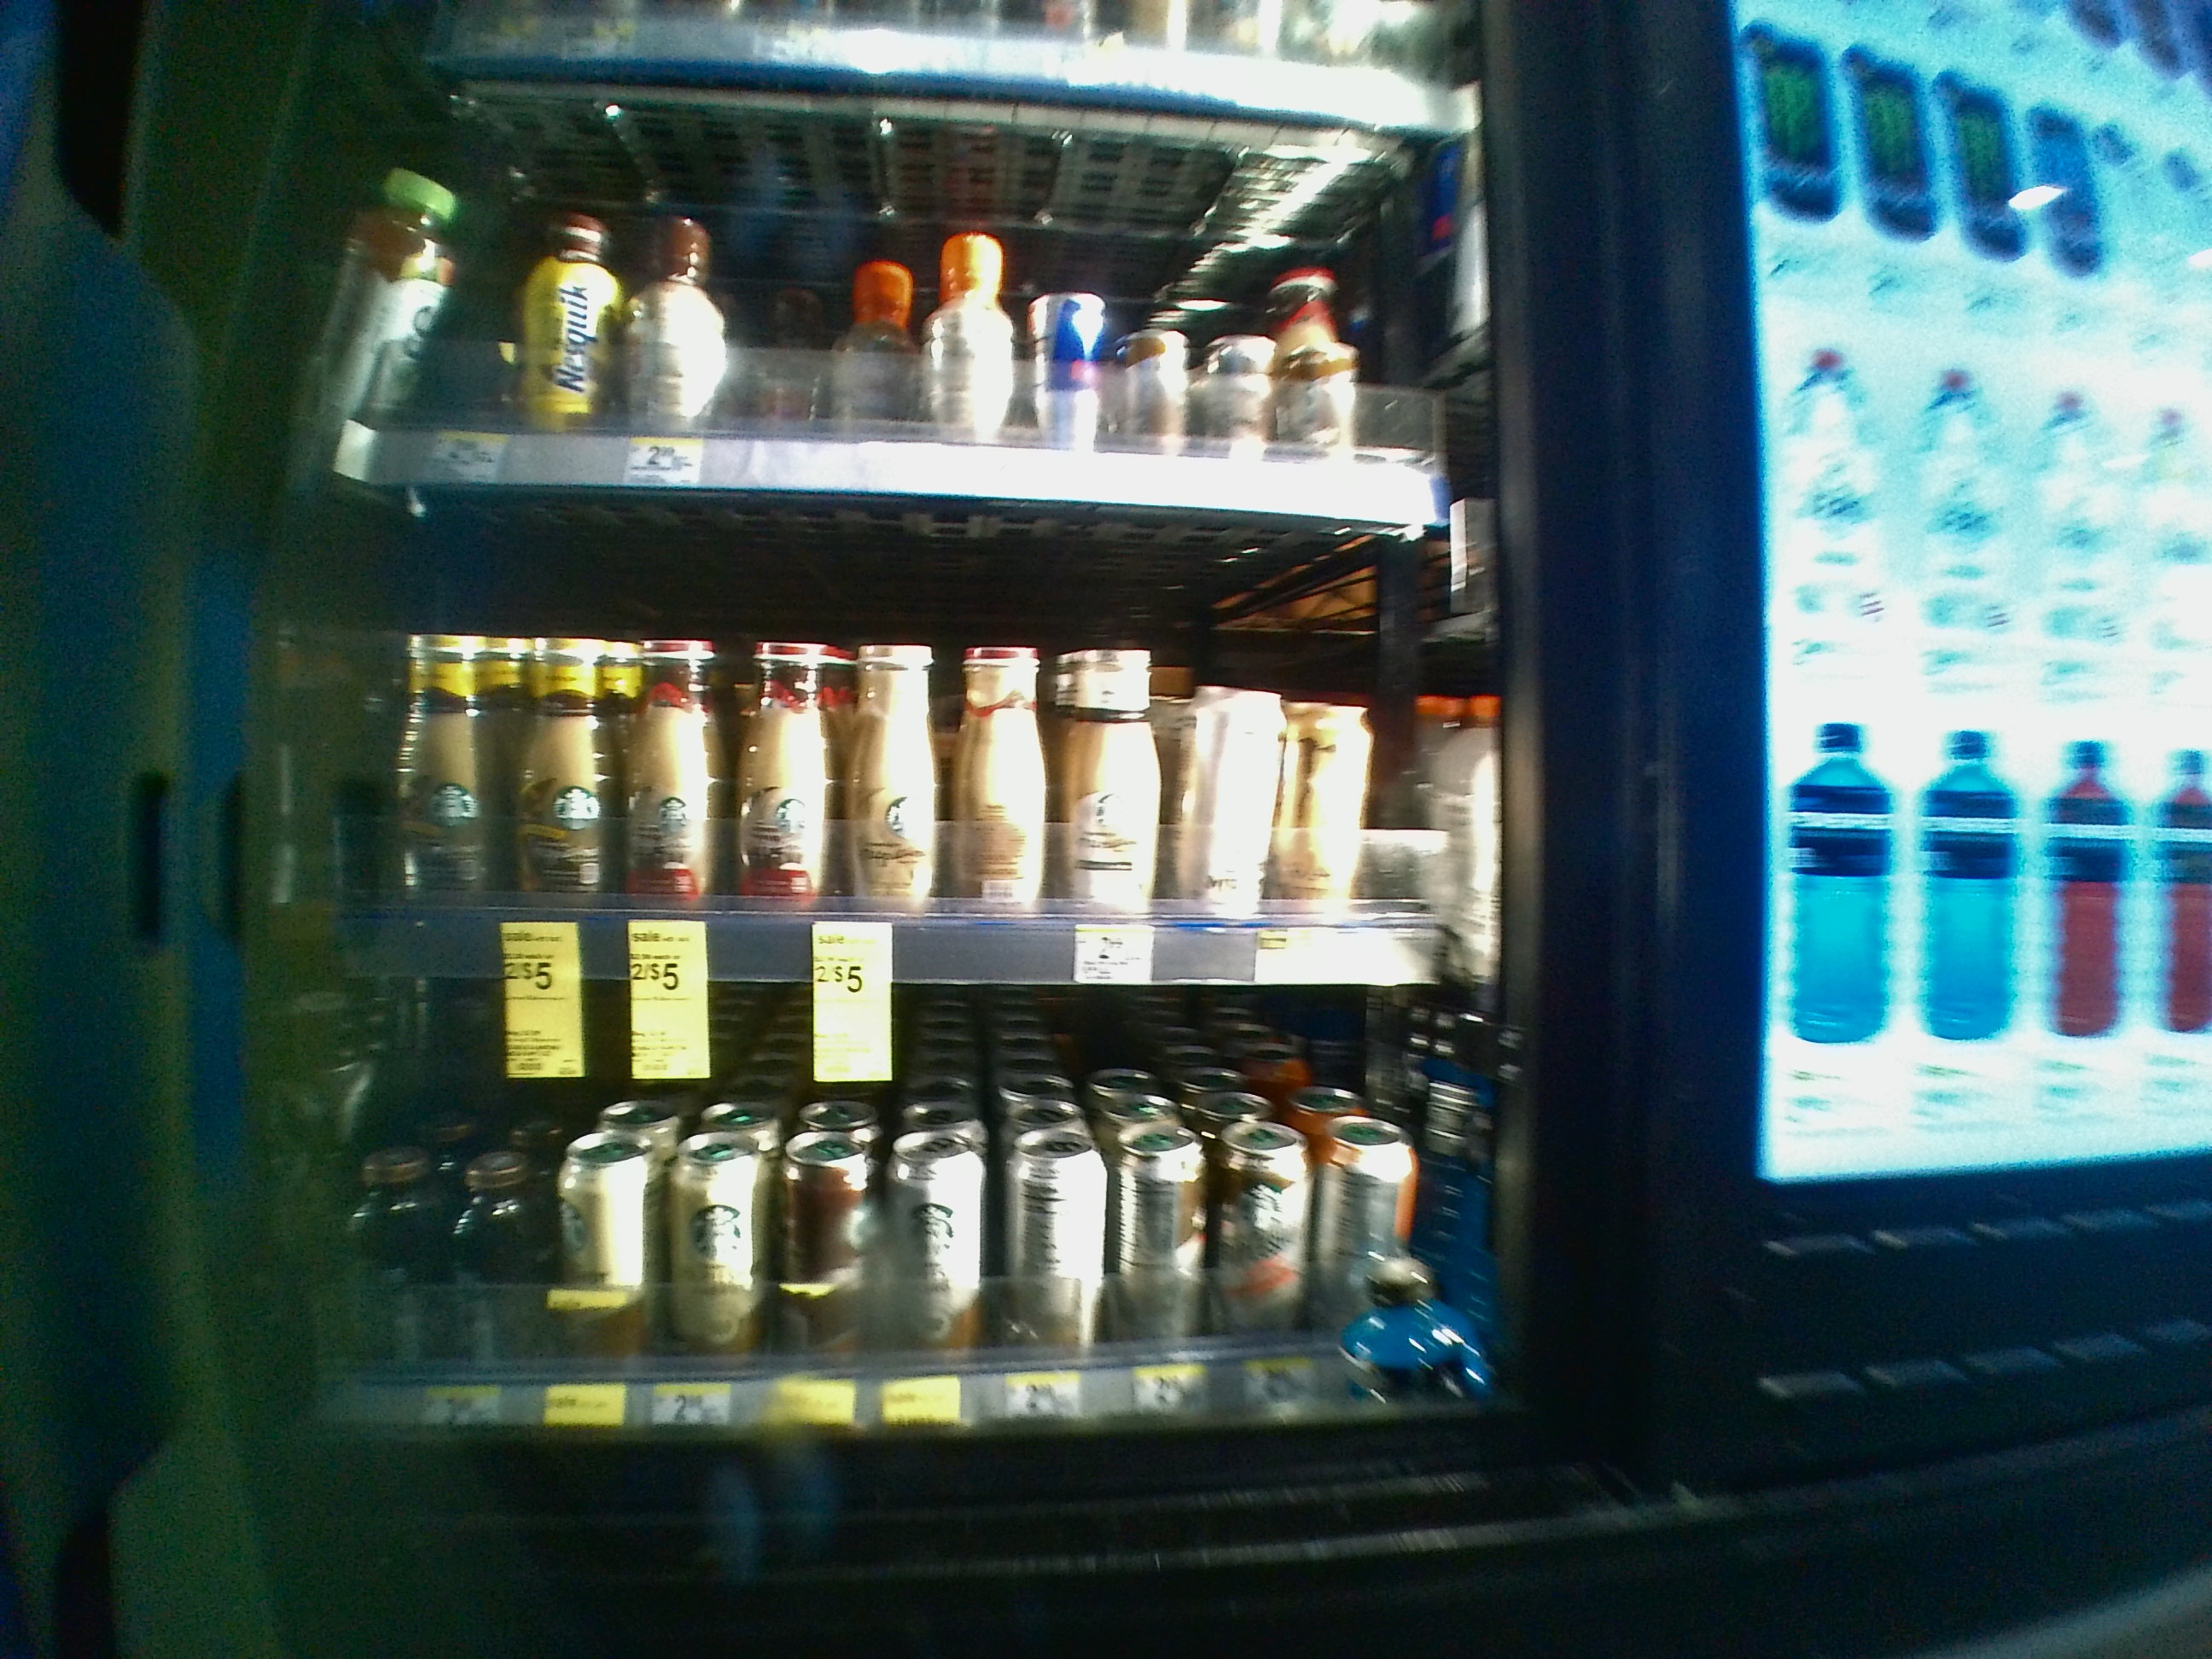shelf: (310, 493, 1521, 990), (280, 990, 1543, 1450)
